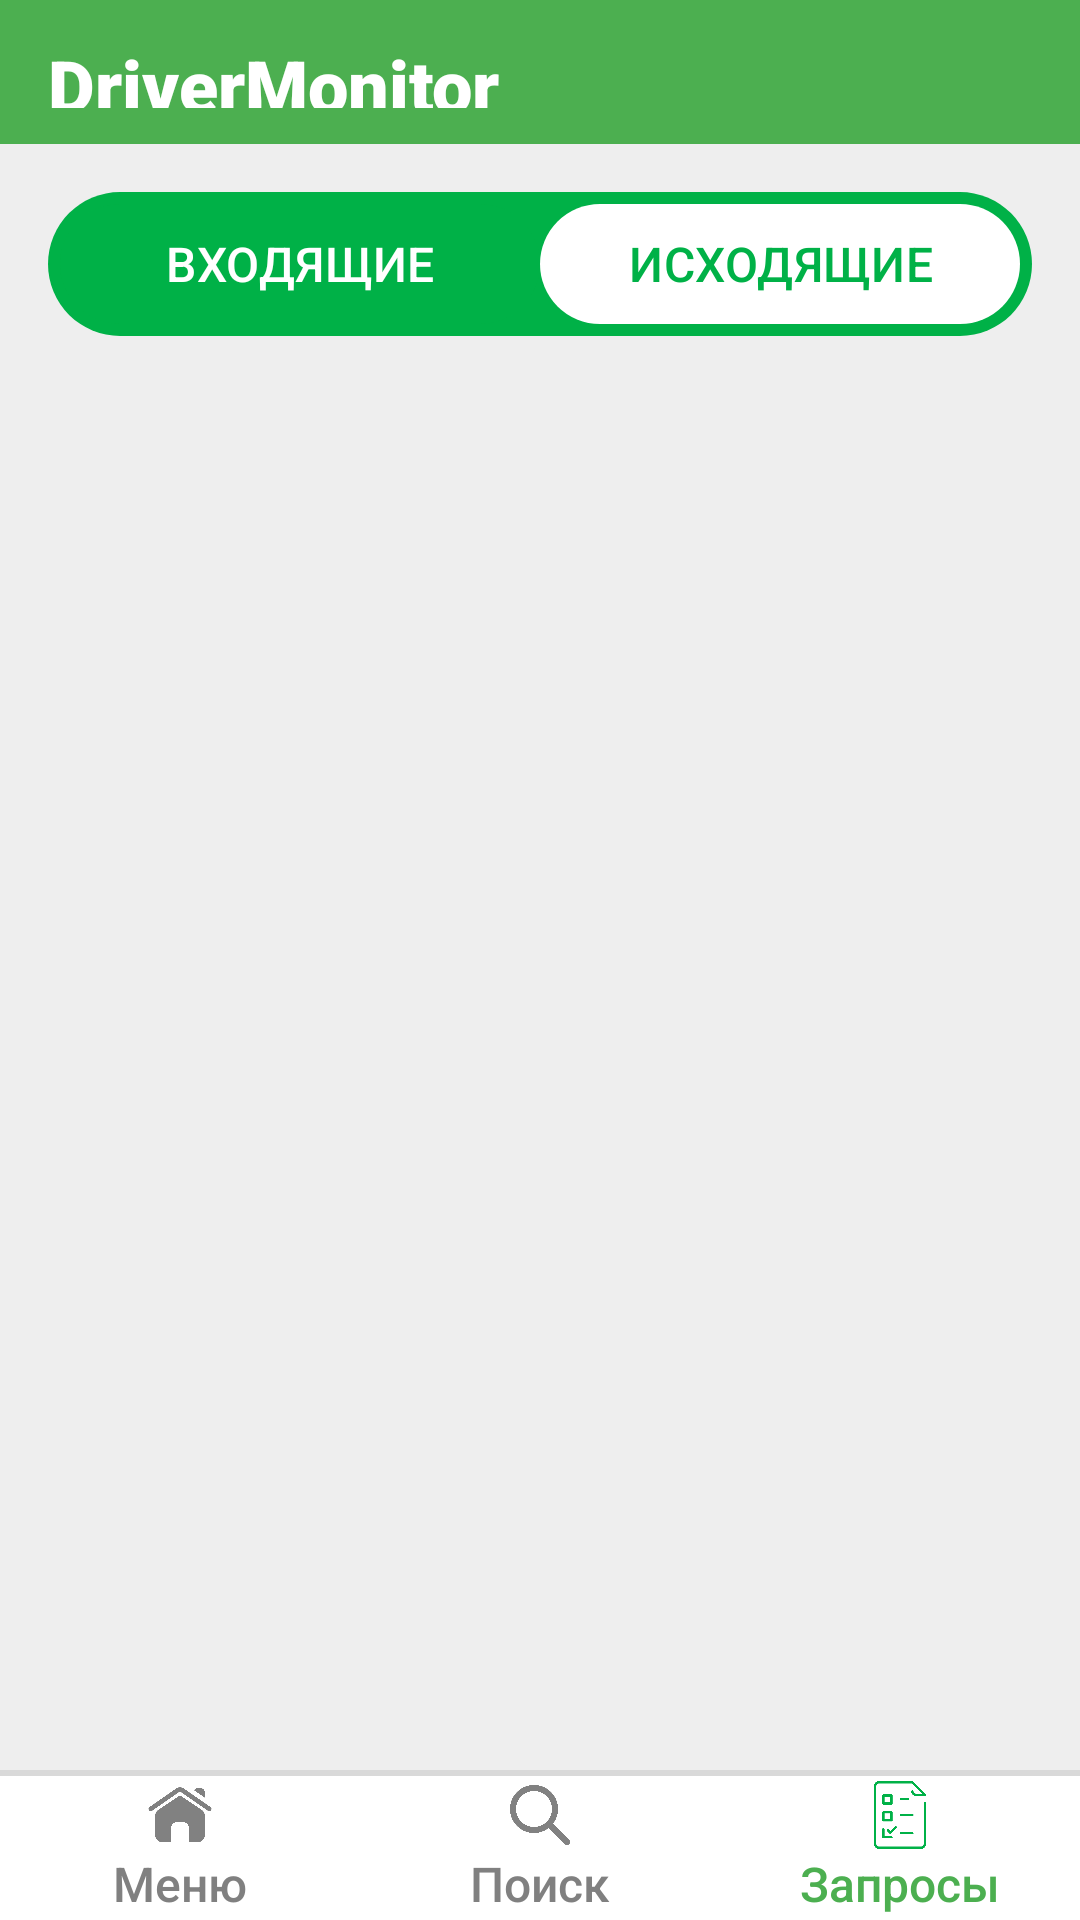

Where icons sit on this 1080 x 1920 app screen, as (x1, y1, x2, y2):
home: (148, 1787, 212, 1842)
tests: (874, 1781, 926, 1849)
